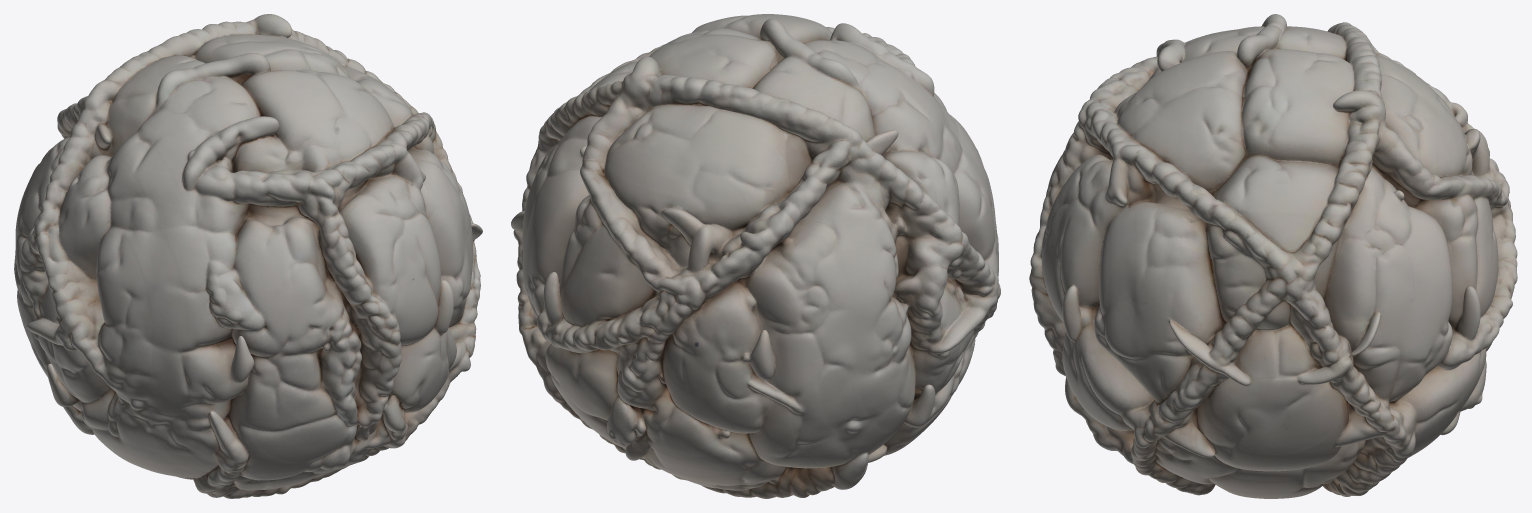
The model's file is detailed_realistic_model_solid_02.glb.
3 renders of one model, left to right at view 1: azimuth 30°, elevation 25°; view 2: azimuth 150°, elevation 25°; view 3: azimuth 270°, elevation 25°, orthographic. The views are drawn at different scales.
Visible parts, largest first — view 1: tripo_node_7f152369-cf93-4317-8bb7-69a57ba7c8e6; view 2: tripo_node_7f152369-cf93-4317-8bb7-69a57ba7c8e6; view 3: tripo_node_7f152369-cf93-4317-8bb7-69a57ba7c8e6.
Boxes of the visible parts, x1,y1,x2,y2 form: tripo_node_7f152369-cf93-4317-8bb7-69a57ba7c8e6: [14, 14, 482, 498]; tripo_node_7f152369-cf93-4317-8bb7-69a57ba7c8e6: [511, 14, 1000, 498]; tripo_node_7f152369-cf93-4317-8bb7-69a57ba7c8e6: [1029, 14, 1517, 498].
Size of the model in its own units: 1 by 0.9877 by 0.9948.
1 material, 1 textured.
